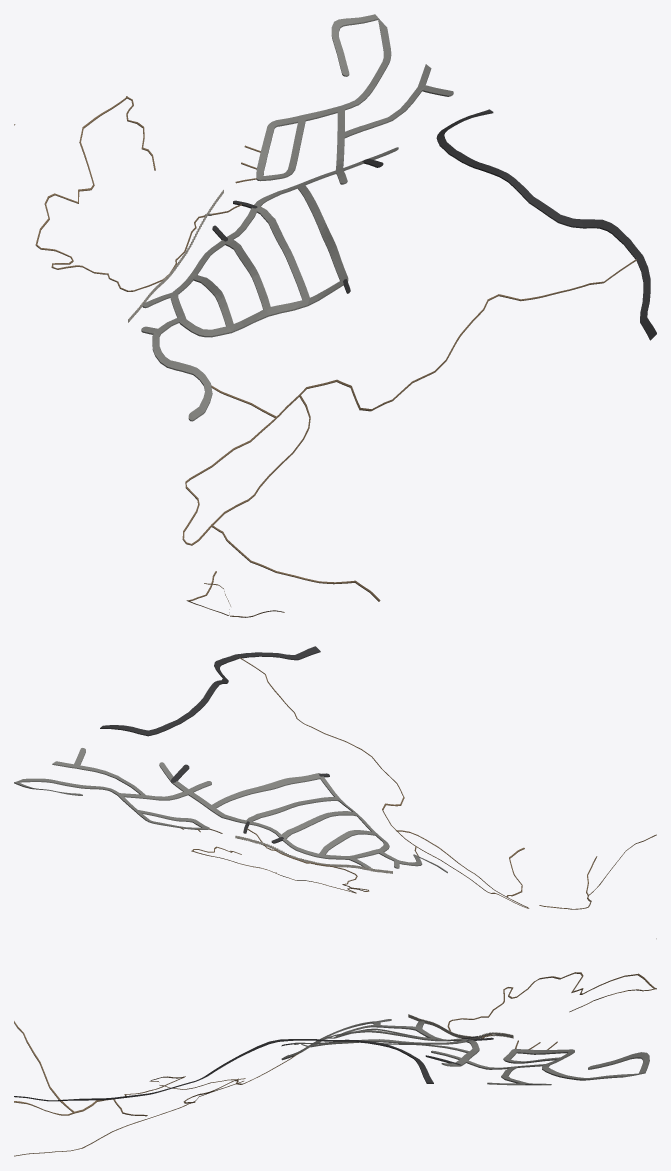
The picture shows the model from 3 angles, top to bottom: view 1: azimuth 30°, elevation 25°; view 2: azimuth 150°, elevation 25°; view 3: azimuth 270°, elevation 25°; orthographic projection. The views are drawn at different scales.
Bounding box in the file's own units: 497 × 248 × 583.
